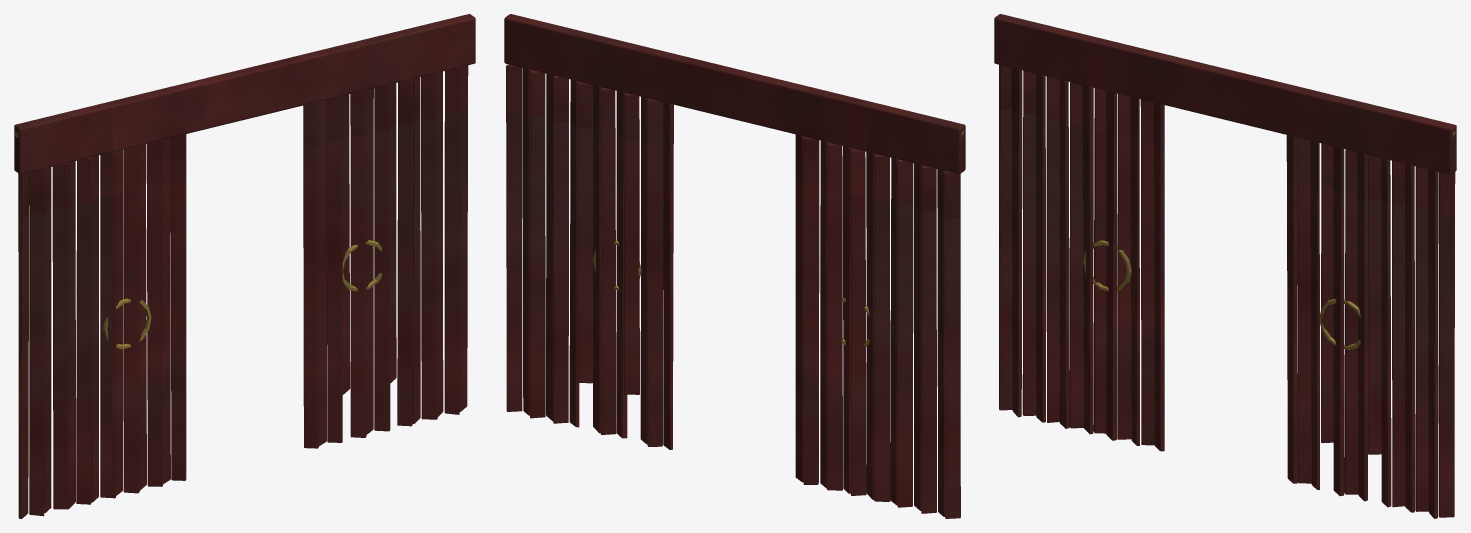
Rendered from Q05_stage_curtain.glb.
3 renders of one model, left to right at view 1: azimuth 30°, elevation 25°; view 2: azimuth 150°, elevation 25°; view 3: azimuth 330°, elevation 25°, orthographic.
Visible parts, largest first — view 1: Q05_stage_curtain; view 2: Q05_stage_curtain; view 3: Q05_stage_curtain.
Boxes of the visible parts, x1=… form: Q05_stage_curtain: x1=14, y1=14, x2=475, y2=518; Q05_stage_curtain: x1=504, y1=14, x2=965, y2=518; Q05_stage_curtain: x1=994, y1=14, x2=1456, y2=518.
Size of the model in its own units: 6 by 4.94 by 0.1877.
Materials: 3 (3 with a texture image).
